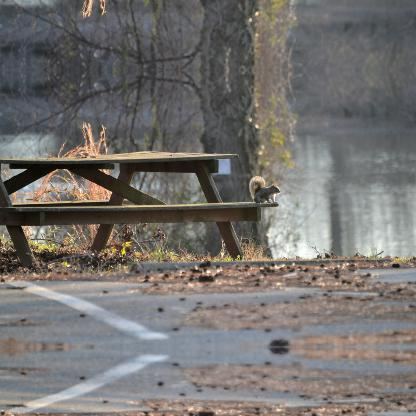Squirrel: (249, 174, 281, 200)
